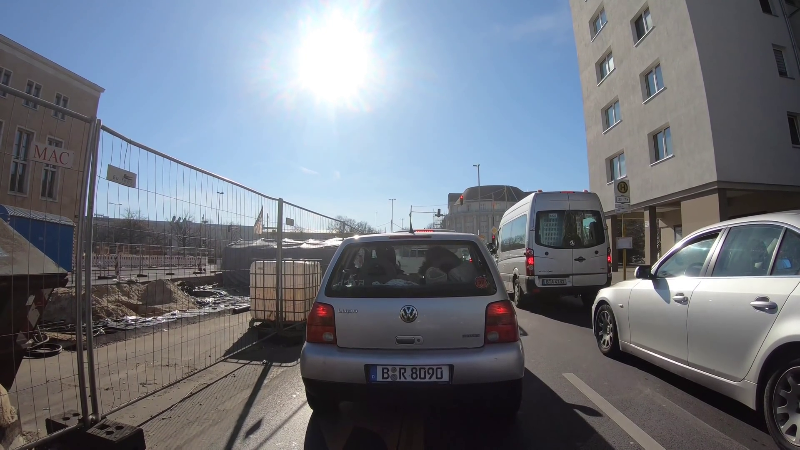Plate: (360, 360, 455, 385), (540, 276, 568, 286)
